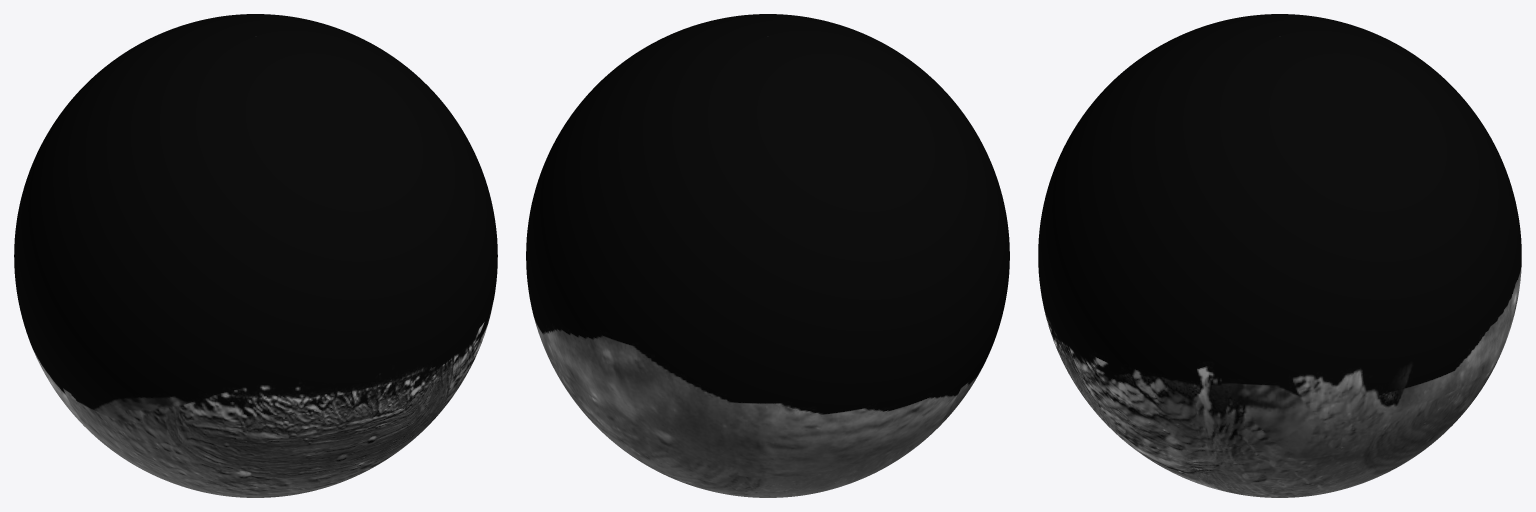
File: miranda.glb
3 renders of one model, left to right at view 1: azimuth 30°, elevation 25°; view 2: azimuth 150°, elevation 25°; view 3: azimuth 270°, elevation 25°, orthographic.
Parts seen in each view (by area): view 1: Miranda_Asset; view 2: Miranda_Asset; view 3: Miranda_Asset.
Boxes of the visible parts, x1=… form: Miranda_Asset: x1=14, y1=14, x2=497, y2=497; Miranda_Asset: x1=526, y1=14, x2=1009, y2=497; Miranda_Asset: x1=1038, y1=14, x2=1521, y2=497.
Size of the model in its own units: 0.3994 by 0.4 by 0.3994.
Materials: 1 (1 with a texture image).
